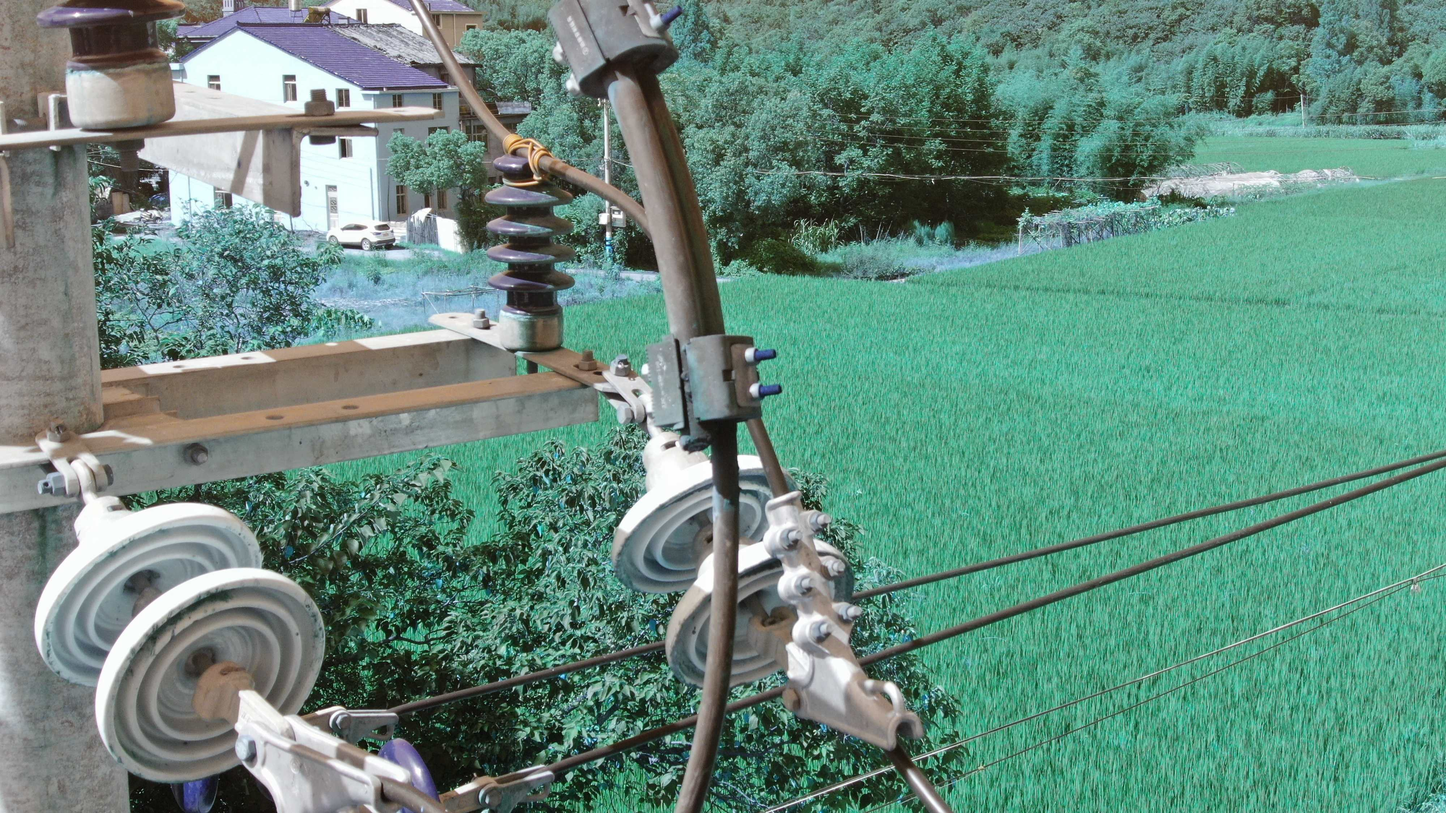severe_soiling_no_discharge_whole: (28, 489, 337, 785), (608, 434, 847, 689), (482, 146, 575, 355)
